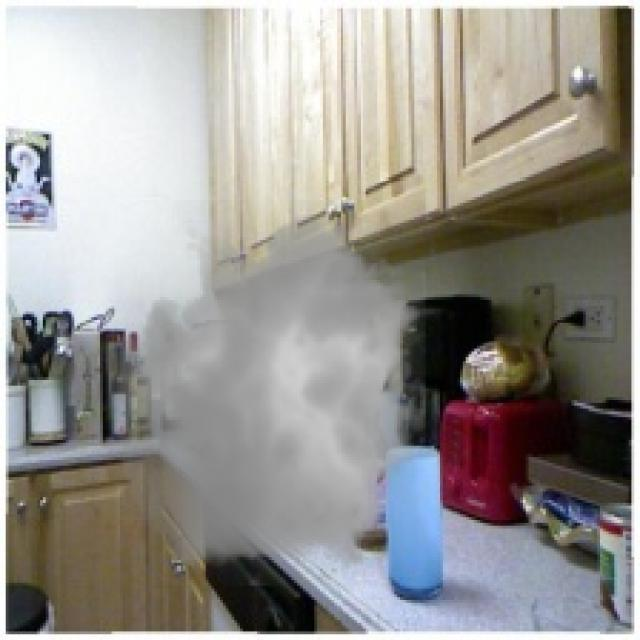Smoke: (97, 200, 440, 586)
